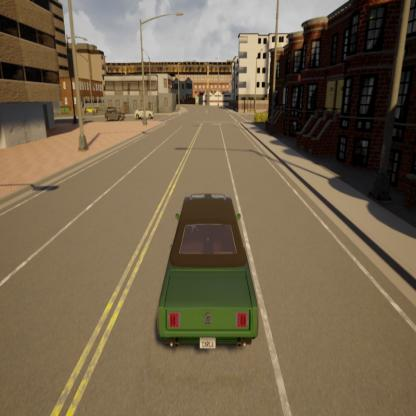Cars: (142, 179, 267, 369), (102, 107, 127, 123), (132, 106, 156, 121), (84, 102, 99, 118)
